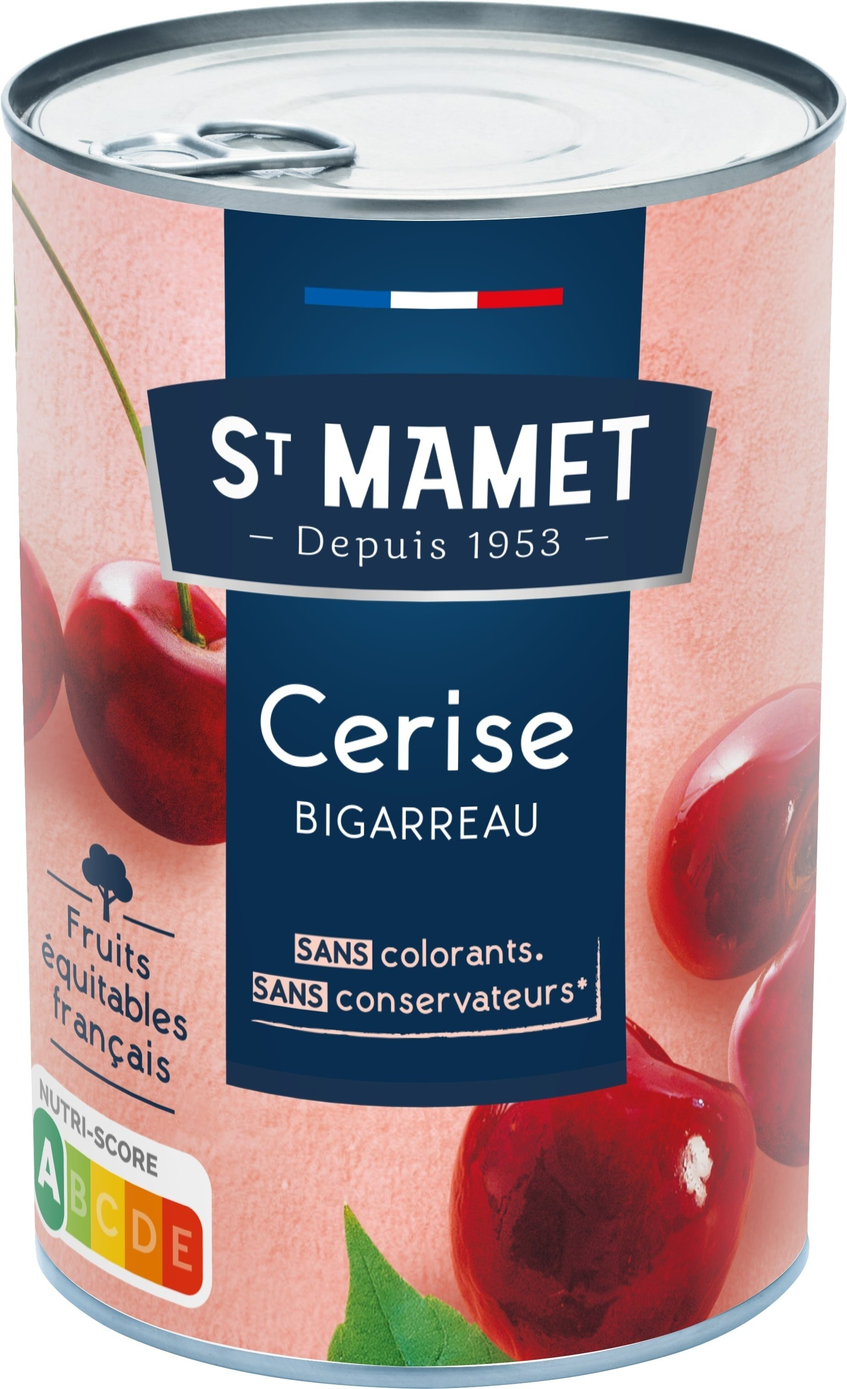Cerise Bigarreau: (42, 69, 805, 1320)
